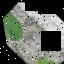Morning glory: (0, 2, 64, 64)
